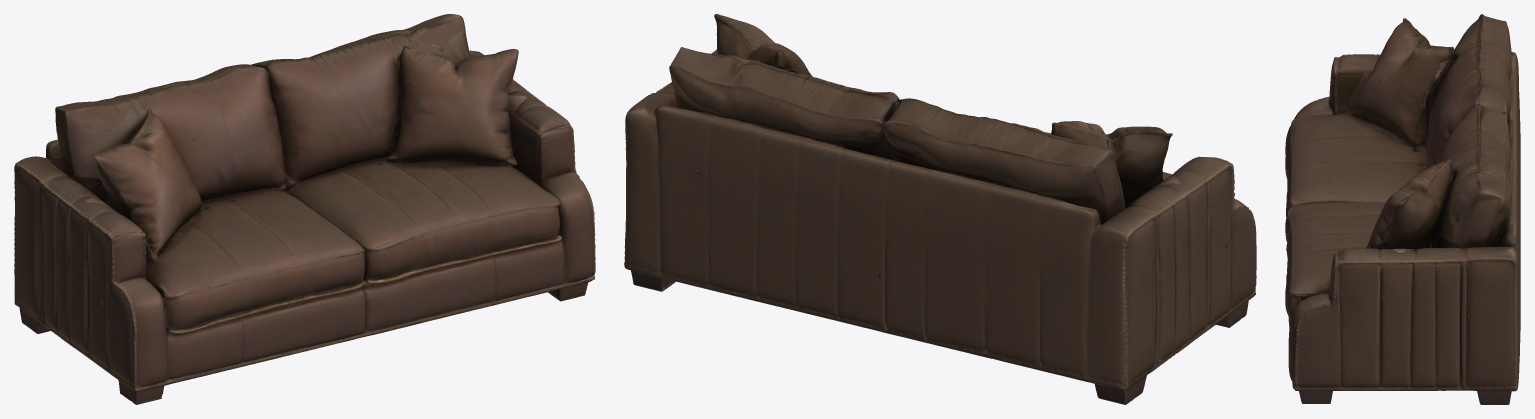
The model's file is a_sofa_in_a_living_ro_0724164856_texture.fbx.
3 renders of one model, left to right at view 1: azimuth 30°, elevation 25°; view 2: azimuth 150°, elevation 25°; view 3: azimuth 270°, elevation 25°, orthographic. The views are drawn at different scales.
Parts seen in each view (by area): view 1: input; view 2: input; view 3: input.
Part boxes in pixels (bbox=[...]): input: bbox=[14, 14, 595, 404]; input: bbox=[624, 14, 1256, 404]; input: bbox=[1285, 14, 1520, 404].
Size of the model in its own units: 200 by 89.48 by 94.35.
1 material, 1 textured.
